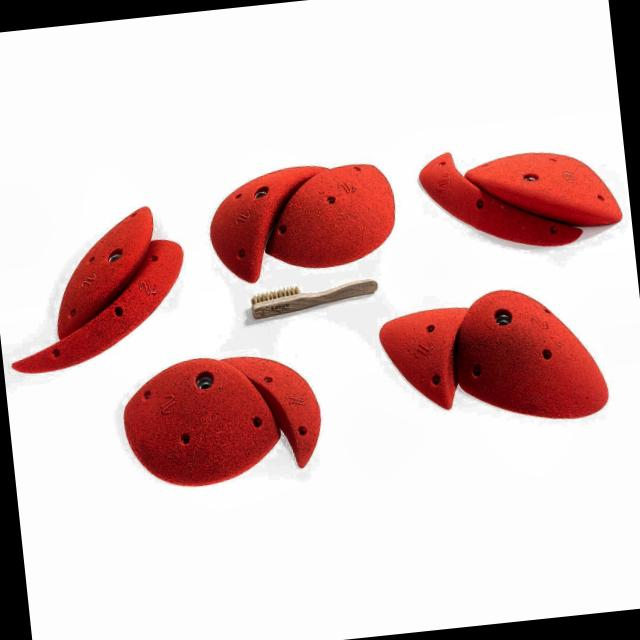Hold: (370, 278, 610, 438), (4, 196, 198, 378), (122, 338, 322, 492), (203, 156, 403, 286), (417, 132, 620, 260)
